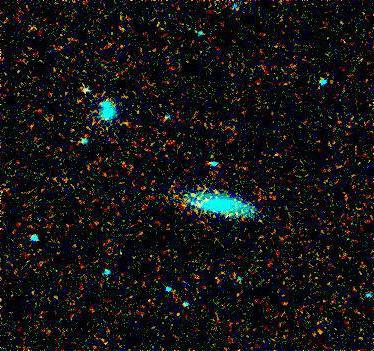star: (186, 187, 216, 217)
